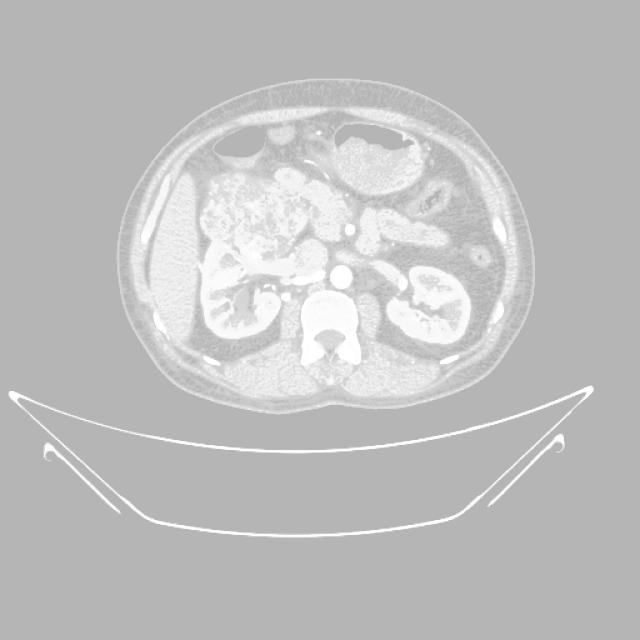TUMOR: (189, 170, 527, 341)
